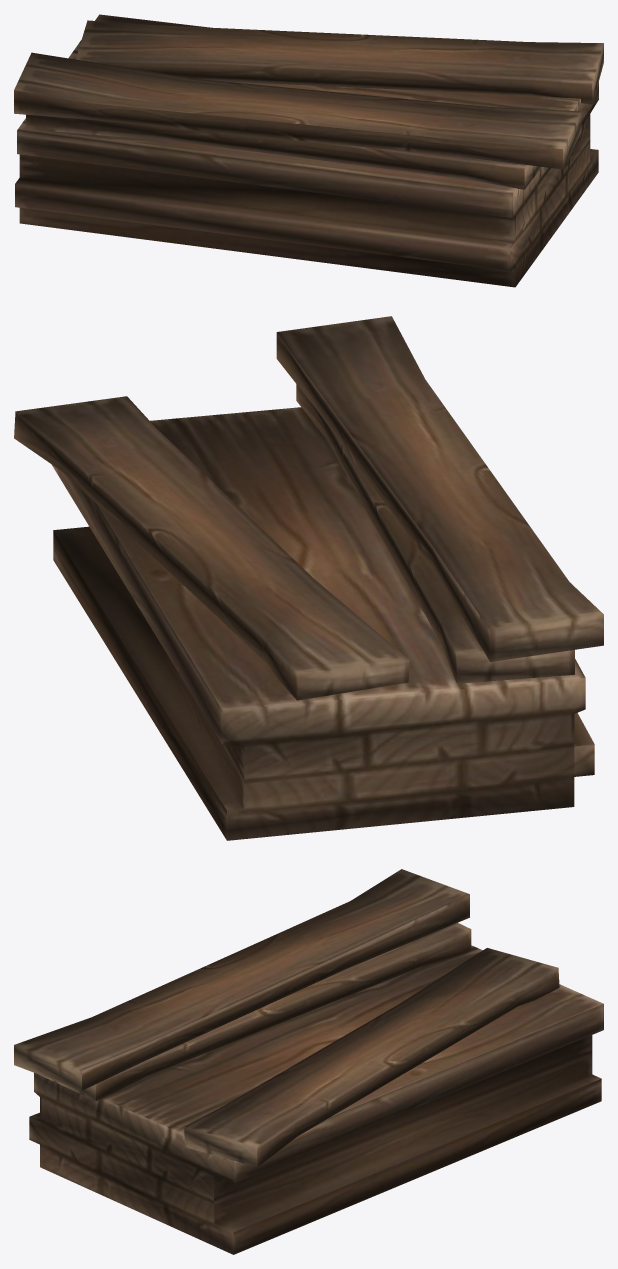
The model's file is Anmaodao_chaihuo.FBX.
The picture shows the model from 3 angles, top to bottom: view 1: azimuth 30°, elevation 25°; view 2: azimuth 150°, elevation 25°; view 3: azimuth 270°, elevation 25°; orthographic projection. The views are drawn at different scales.
Parts seen in each view (by area): view 1: Anmaodao_chaihuo; view 2: Anmaodao_chaihuo; view 3: Anmaodao_chaihuo.
Boxes of the visible parts, <box> form: Anmaodao_chaihuo: <box>14,14,603,287</box>; Anmaodao_chaihuo: <box>14,316,603,840</box>; Anmaodao_chaihuo: <box>14,869,603,1254</box>.
Size of the model in its own units: 122 by 120 by 32.06.
